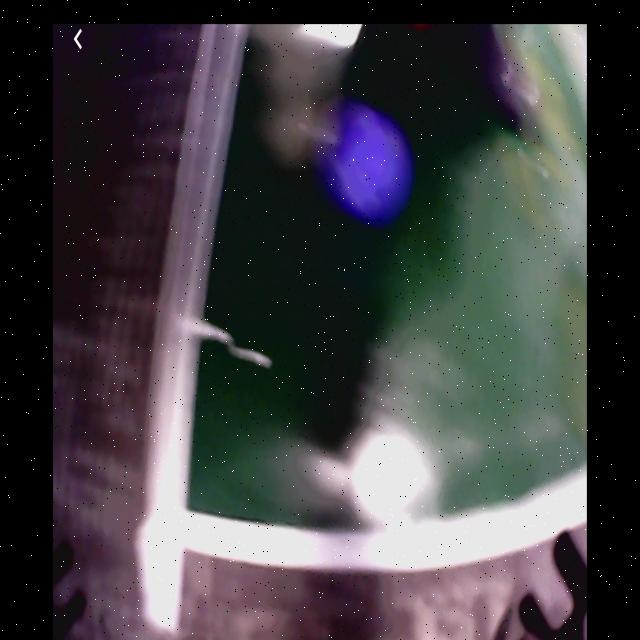ball: (329, 110, 409, 225)
